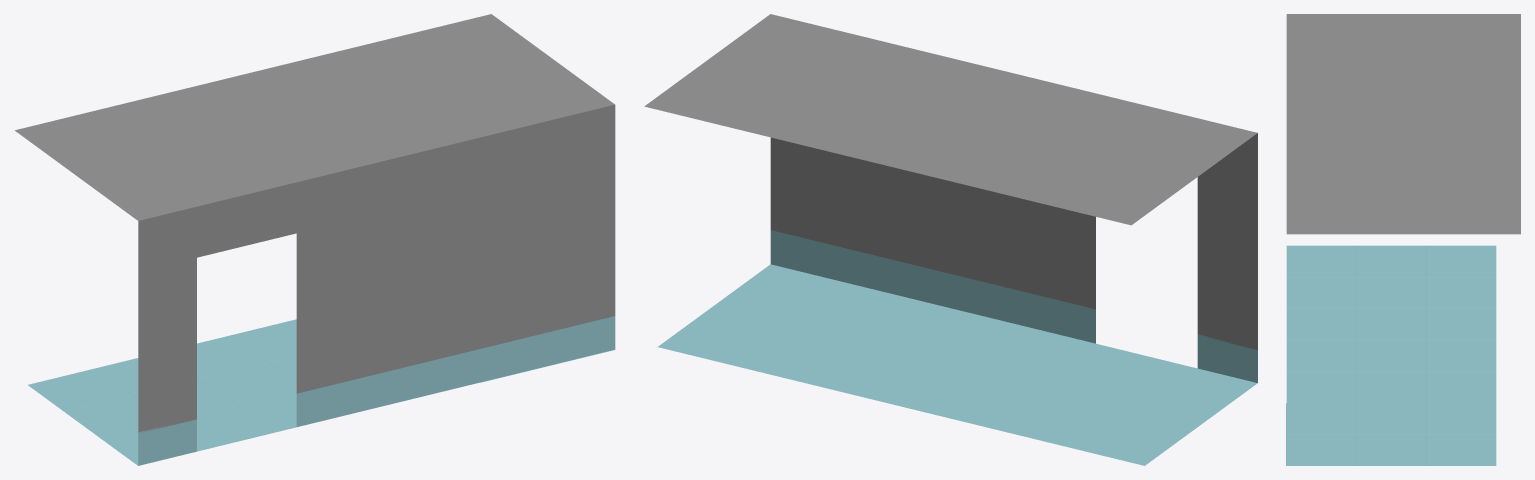
File: HS_I_Outside_model_v1.FBX
The picture shows the model from 3 angles, left to right: view 1: azimuth 30°, elevation 25°; view 2: azimuth 150°, elevation 25°; view 3: azimuth 270°, elevation 25°; orthographic projection. The views are drawn at different scales.
Parts seen in each view (by area): view 1: wall_bot05, wall_bot01, wall_bot03, wall_bot04; view 2: wall_bot01, wall_bot03, wall_bot05, wall_bot04; view 3: wall_bot01, wall_bot03.
Boxes of the visible parts, x1,y1,x2,y2 form: wall_bot05: (138, 104, 615, 432); wall_bot01: (15, 14, 614, 220); wall_bot03: (28, 319, 614, 465); wall_bot04: (138, 316, 615, 465); wall_bot01: (644, 14, 1257, 225); wall_bot03: (658, 264, 1257, 465); wall_bot05: (770, 133, 1257, 349); wall_bot04: (770, 230, 1257, 382); wall_bot01: (1286, 14, 1520, 234); wall_bot03: (1286, 245, 1496, 465).
Size of the model in its own units: 452 by 222 by 204.
